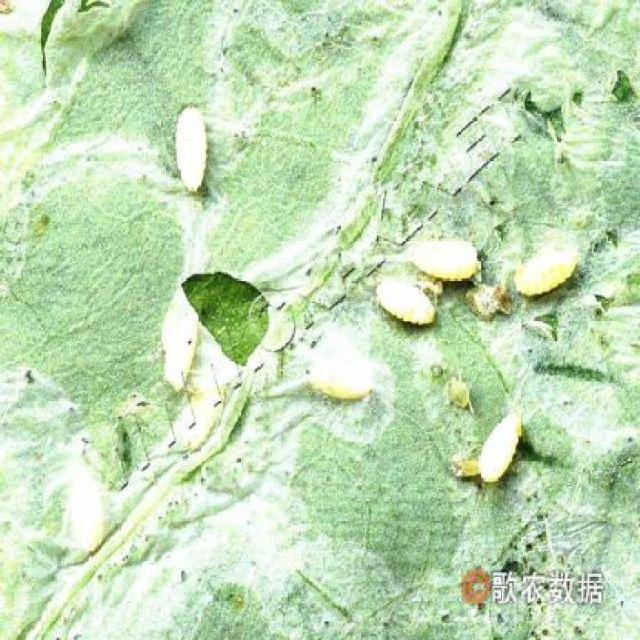whorl-maggot: (474, 398, 531, 490), (368, 270, 442, 338), (504, 239, 590, 295), (171, 94, 214, 198), (308, 352, 379, 408), (414, 229, 481, 286), (66, 461, 105, 553)
